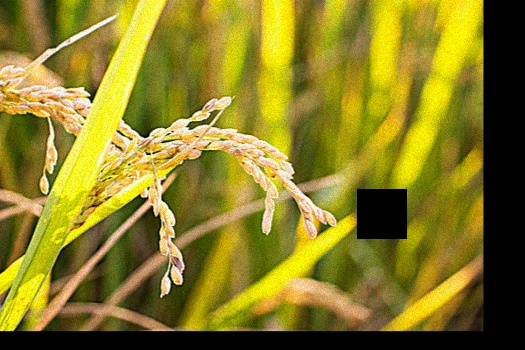rice: (98, 92, 334, 301)
